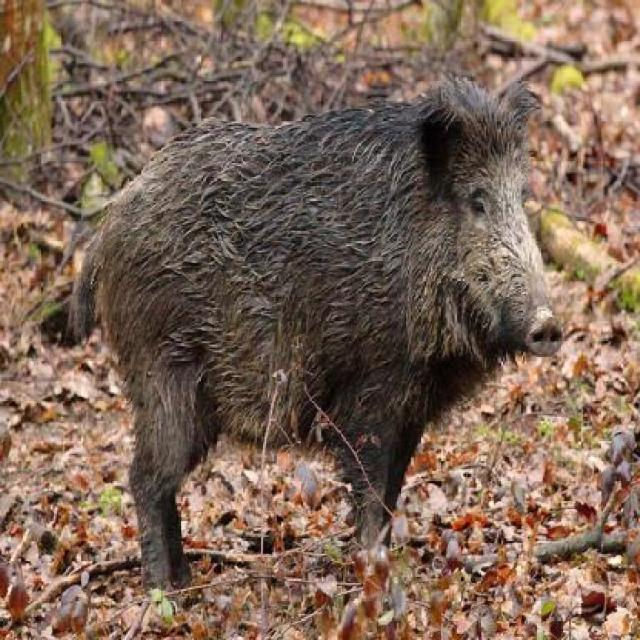wildboar: (51, 60, 564, 603)
